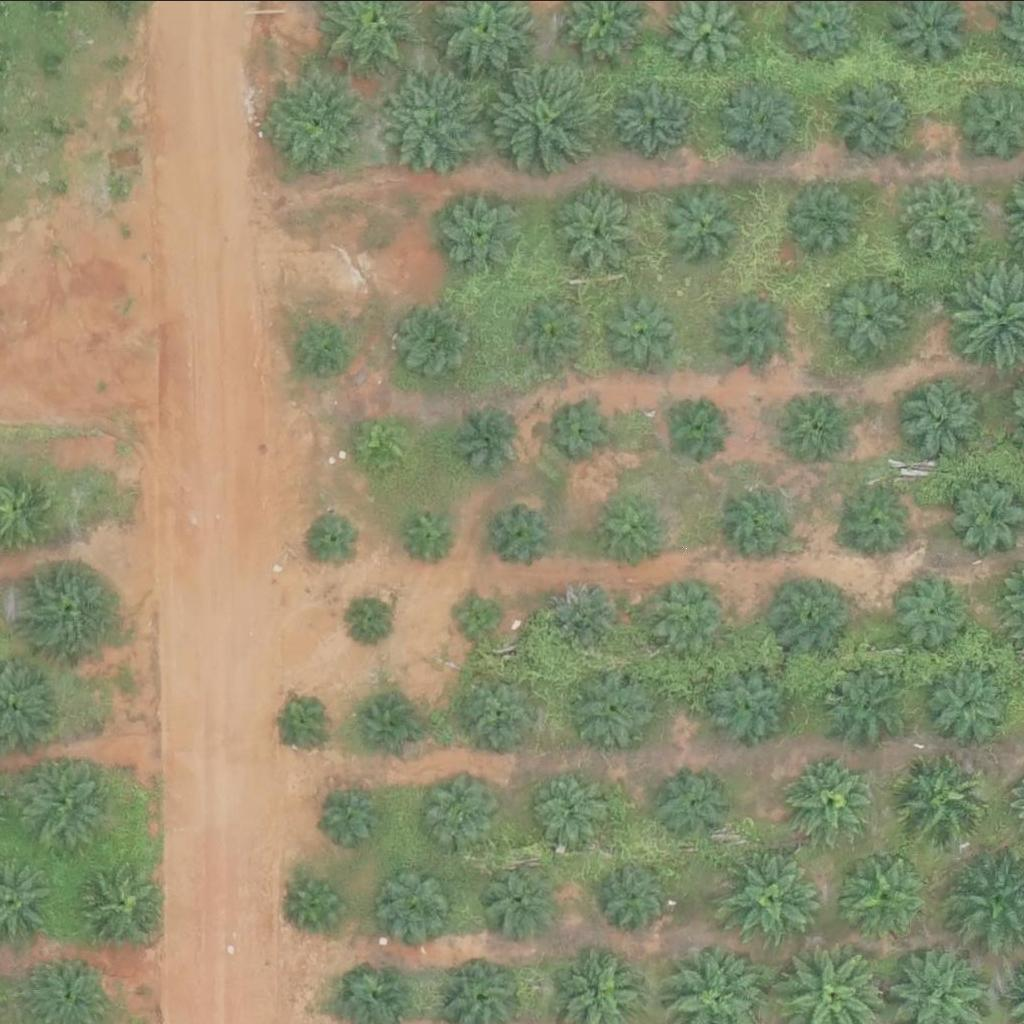Kelapa_Sawit: (381, 58, 495, 171), (488, 52, 602, 165), (10, 753, 111, 853), (16, 554, 117, 654), (268, 70, 369, 170), (721, 851, 821, 951), (897, 748, 997, 848), (828, 267, 917, 355), (568, 663, 656, 751), (768, 568, 856, 656), (76, 857, 164, 945), (708, 659, 796, 747), (900, 171, 988, 259), (845, 850, 933, 938), (898, 377, 987, 464), (828, 68, 916, 155), (789, 755, 877, 842), (827, 660, 915, 747), (925, 658, 1013, 745), (530, 772, 606, 847), (478, 862, 554, 937), (597, 857, 673, 932), (653, 768, 729, 843), (511, 289, 587, 364), (401, 305, 477, 380), (562, 191, 638, 266), (442, 196, 518, 271), (615, 76, 691, 151), (729, 78, 805, 153), (381, 864, 456, 939), (423, 771, 498, 846), (467, 673, 542, 748), (843, 479, 918, 554), (727, 491, 802, 566), (718, 290, 793, 365), (790, 185, 865, 260), (662, 183, 737, 258), (602, 289, 677, 364), (653, 581, 728, 656), (552, 574, 627, 649), (457, 402, 532, 477), (547, 388, 622, 463), (661, 390, 736, 465), (785, 387, 860, 462), (901, 573, 976, 648), (271, 691, 334, 754), (360, 690, 423, 753), (600, 493, 663, 556), (355, 416, 418, 479), (293, 324, 356, 387), (287, 872, 350, 934), (320, 782, 383, 844), (302, 507, 365, 569), (402, 503, 465, 565), (489, 503, 552, 565), (346, 589, 397, 639), (452, 590, 503, 640)
